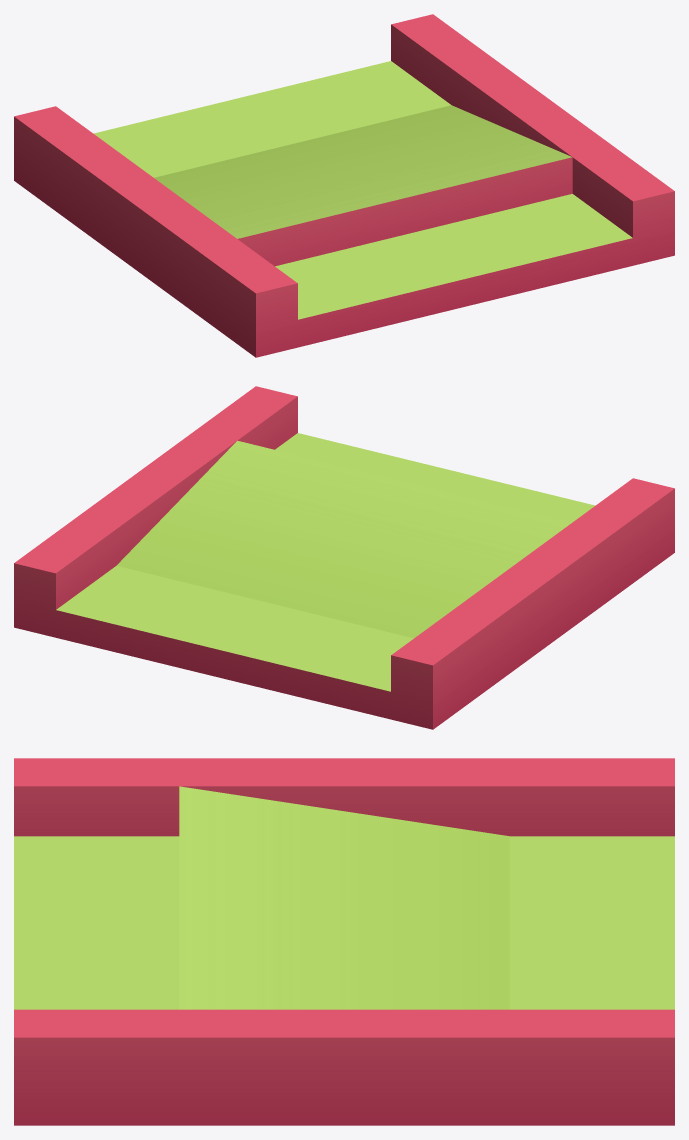
The model's file is ramp-sharp.gltf.
3 views of the same model, one above another, from view 1: azimuth 30°, elevation 25°; view 2: azimuth 150°, elevation 25°; view 3: azimuth 270°, elevation 25° (orthographic). The views are drawn at different scales.
Parts seen in each view (by area): view 1: ramp-sharp; view 2: ramp-sharp; view 3: ramp-sharp.
Part boxes in pixels (left/top/right/bottom): ramp-sharp: left=14, top=14, right=674, bottom=357; ramp-sharp: left=14, top=386, right=674, bottom=729; ramp-sharp: left=14, top=758, right=674, bottom=1125.
Size of the model in its own units: 0.9999 by 0.1467 by 0.9999.
Materials: 1 (1 with a texture image).
